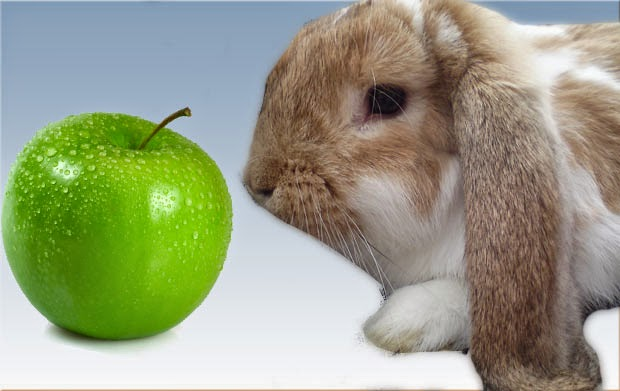elma: (7, 116, 241, 342)
